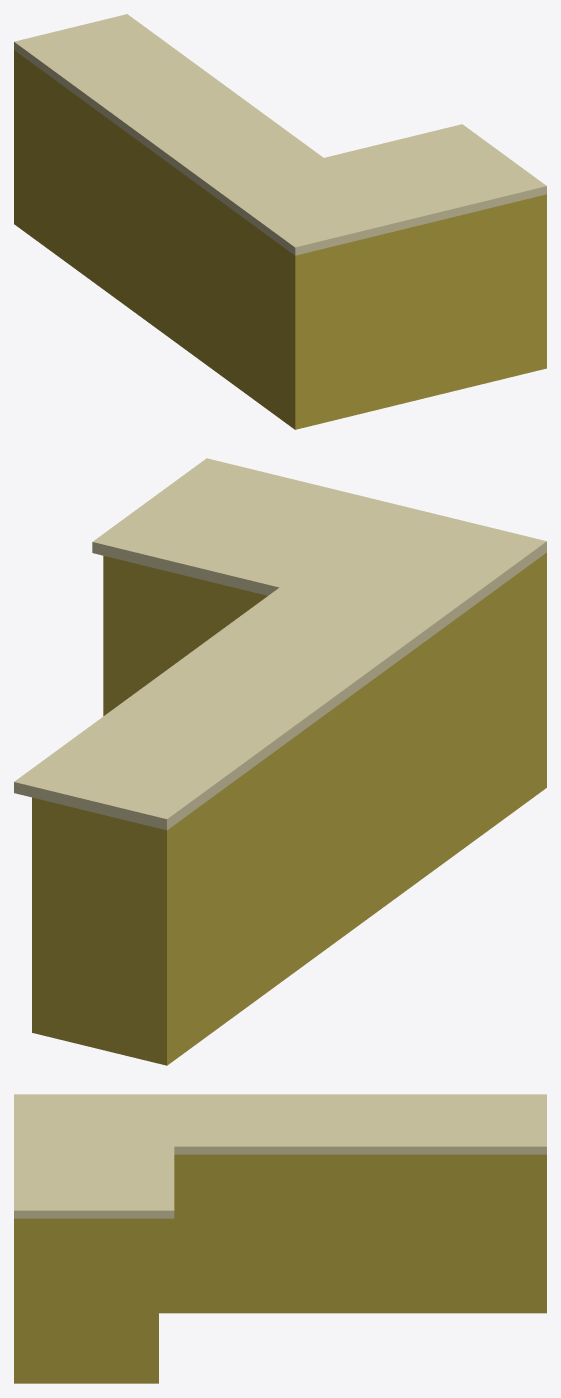
The model's file is Side_Counters.fbx.
3 renders of one model, top to bottom at view 1: azimuth 30°, elevation 25°; view 2: azimuth 150°, elevation 25°; view 3: azimuth 270°, elevation 25°, orthographic. The views are drawn at different scales.
Visible parts, largest first — view 1: Oven_Counter; view 2: Oven_Counter; view 3: Oven_Counter.
Boxes of the visible parts, left/top/right/bottom form: Oven_Counter: left=14, top=14, right=546, bottom=429; Oven_Counter: left=14, top=458, right=546, bottom=1065; Oven_Counter: left=14, top=1094, right=546, bottom=1383.
Size of the model in its own units: 151 by 105 by 292.
